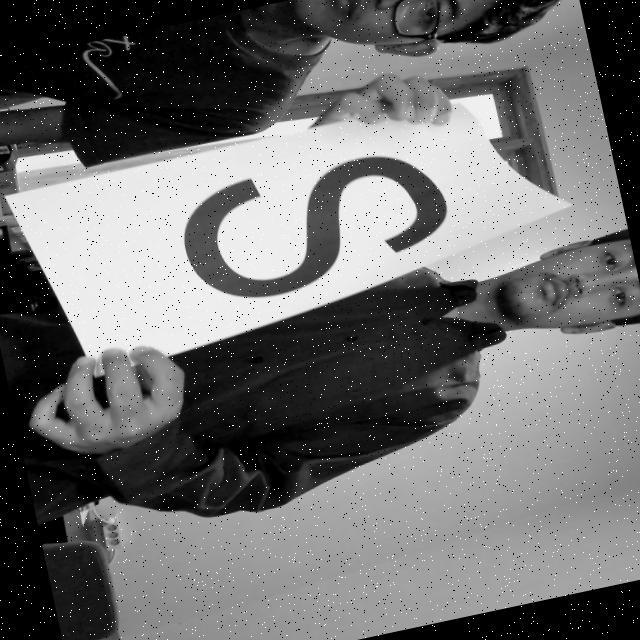s: (154, 127, 472, 325)
